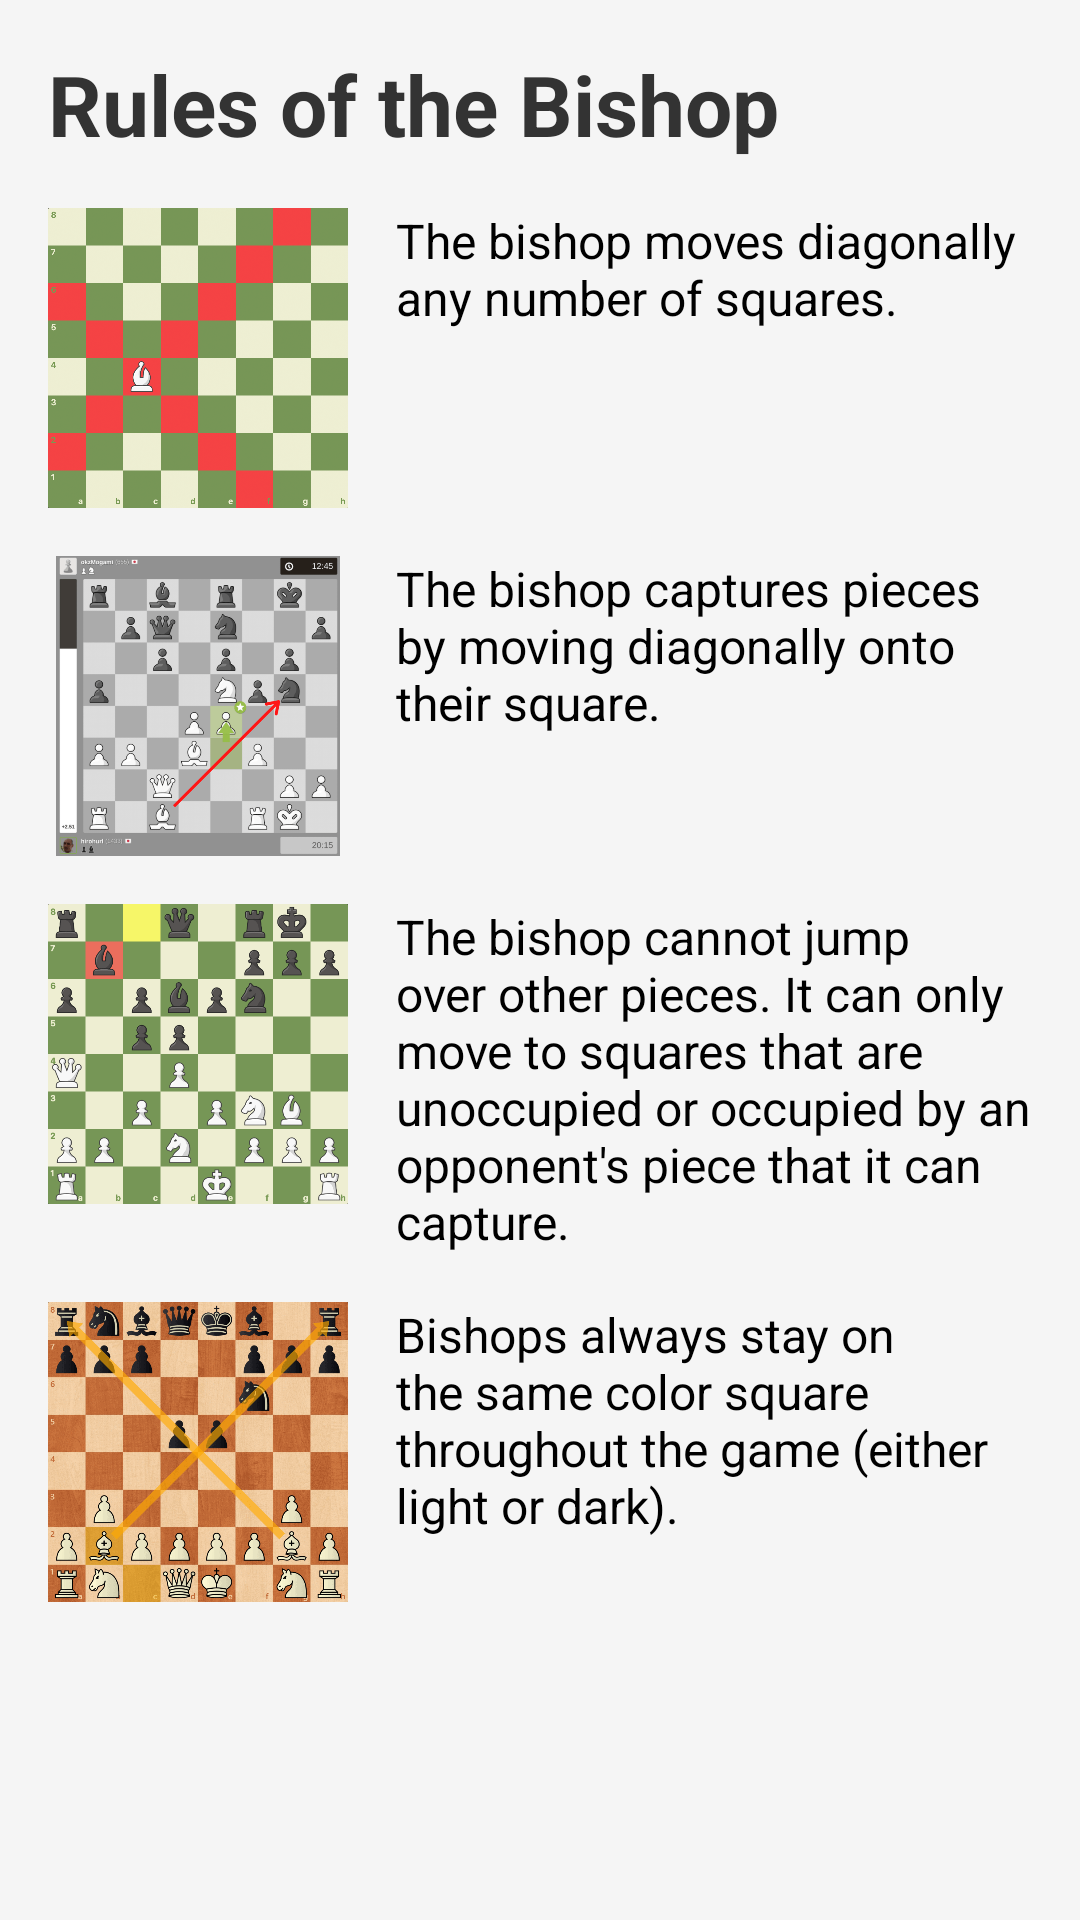

Icon bounding boxes for this 1080px×1920px phone screenshot, format [x1,y1,x2,y2]:
bishopattack: [56,556,340,856]
bishopblock: [48,904,348,1204]
twobishops: [48,1302,348,1602]
